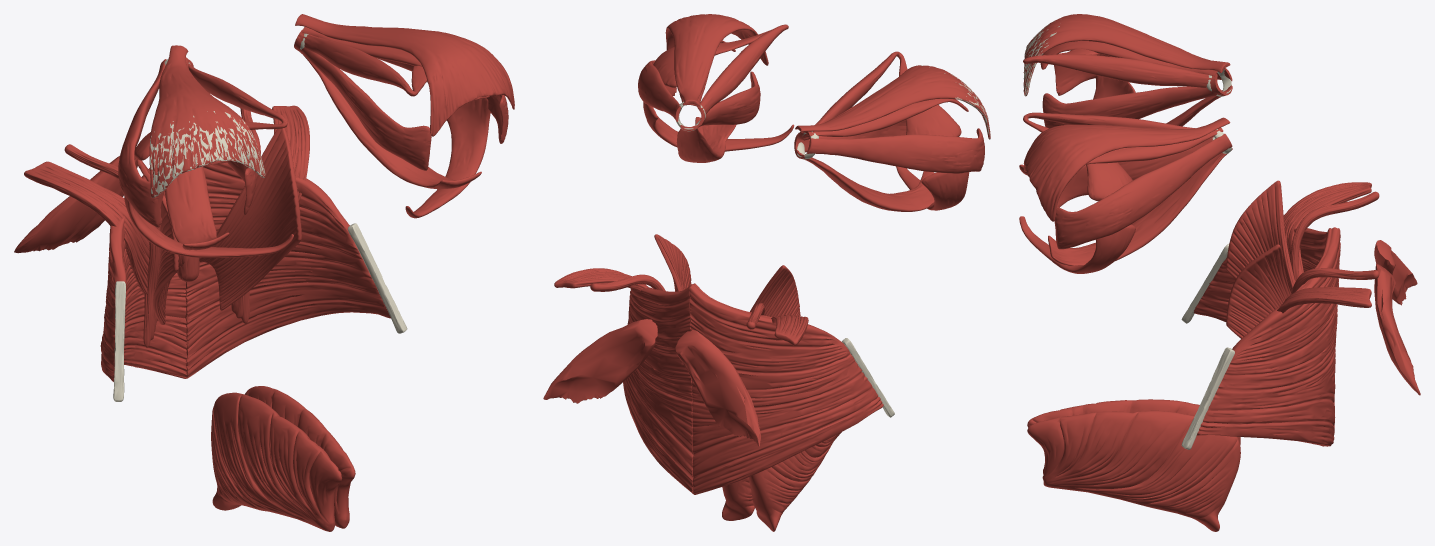
The model's file is muscular.head.glb.
3 renders of one model, left to right at view 1: azimuth 30°, elevation 25°; view 2: azimuth 150°, elevation 25°; view 3: azimuth 270°, elevation 25°, orthographic. The views are drawn at different scales.
Visible parts, largest first — view 1: left_superior_pharyngeal_constrictor, right_genioglossus, left_tensor_veli_palatini, left_levator_palpebrae_superioris, right_levator_palpebrae_superioris, right_superior_pharyngeal_constrictor, left_medial_rectus, right_levator_veli_palatini, left_inferior_oblique, right_inferior_rectus, left_genioglossus, right_rectus_capitis_anterior (+15 smaller); view 2: right_superior_pharyngeal_constrictor, left_superior_pharyngeal_constrictor, right_lateral_rectus, left_rectus_capitis_anterior, right_rectus_capitis_anterior, right_levator_palpebrae_superioris, left_levator_palpebrae_superioris, right_genioglossus, left_superior_oblique, right_superior_oblique, right_inferior_rectus, left_inferior_rectus (+13 smaller); view 3: left_genioglossus, left_superior_pharyngeal_constrictor, left_levator_palpebrae_superioris, left_lateral_rectus, right_levator_palpebrae_superioris, right_tensor_veli_palatini, left_tensor_veli_palatini, right_superior_oblique, right_medial_rectus, left_inferior_rectus, left_superior_oblique, right_superior_pharyngeal_constrictor (+17 smaller).
Part boxes in pixels (bbox=[...]): left_superior_pharyngeal_constrictor: bbox=[185, 162, 390, 378]; right_genioglossus: bbox=[211, 392, 342, 531]; left_tensor_veli_palatini: bbox=[199, 127, 301, 310]; left_levator_palpebrae_superioris: bbox=[295, 14, 514, 136]; right_levator_palpebrae_superioris: bbox=[149, 45, 264, 197]; right_superior_pharyngeal_constrictor: bbox=[100, 168, 187, 381]; left_medial_rectus: bbox=[294, 35, 431, 170]; right_levator_veli_palatini: bbox=[24, 161, 149, 295]; left_inferior_oblique: bbox=[405, 98, 490, 218]; right_inferior_rectus: bbox=[165, 166, 229, 250]; left_genioglossus: bbox=[245, 386, 355, 528]; right_rectus_capitis_anterior: bbox=[14, 155, 137, 253]; right_superior_pharyngeal_constrictor: bbox=[689, 283, 883, 494]; left_superior_pharyngeal_constrictor: bbox=[623, 283, 694, 494]; right_lateral_rectus: bbox=[807, 128, 984, 173]; left_rectus_capitis_anterior: bbox=[543, 319, 657, 403]; right_rectus_capitis_anterior: bbox=[675, 329, 760, 446]; right_levator_palpebrae_superioris: bbox=[795, 65, 990, 139]; left_levator_palpebrae_superioris: bbox=[665, 14, 768, 105]; right_genioglossus: bbox=[748, 432, 841, 531]; left_superior_oblique: bbox=[653, 24, 788, 114]; right_superior_oblique: bbox=[797, 51, 961, 140]; right_inferior_rectus: bbox=[795, 149, 934, 211]; left_inferior_rectus: bbox=[676, 117, 736, 162]; left_genioglossus: bbox=[1027, 410, 1240, 531]; left_superior_pharyngeal_constrictor: bbox=[1196, 227, 1340, 446]; left_levator_palpebrae_superioris: bbox=[1023, 117, 1230, 221]; left_lateral_rectus: bbox=[1054, 133, 1232, 249]; right_levator_palpebrae_superioris: bbox=[1023, 14, 1230, 96]; right_tensor_veli_palatini: bbox=[1226, 180, 1295, 293]; left_tensor_veli_palatini: bbox=[1226, 244, 1291, 338]; right_superior_oblique: bbox=[1023, 48, 1217, 87]; right_medial_rectus: bbox=[1042, 79, 1223, 128]; left_inferior_rectus: bbox=[1048, 148, 1232, 265]; left_superior_oblique: bbox=[1023, 112, 1195, 201]; right_superior_pharyngeal_constrictor: bbox=[1193, 228, 1338, 439].
Bounding box in the file's own units: 0.0869 × 0.109 × 0.0889.
